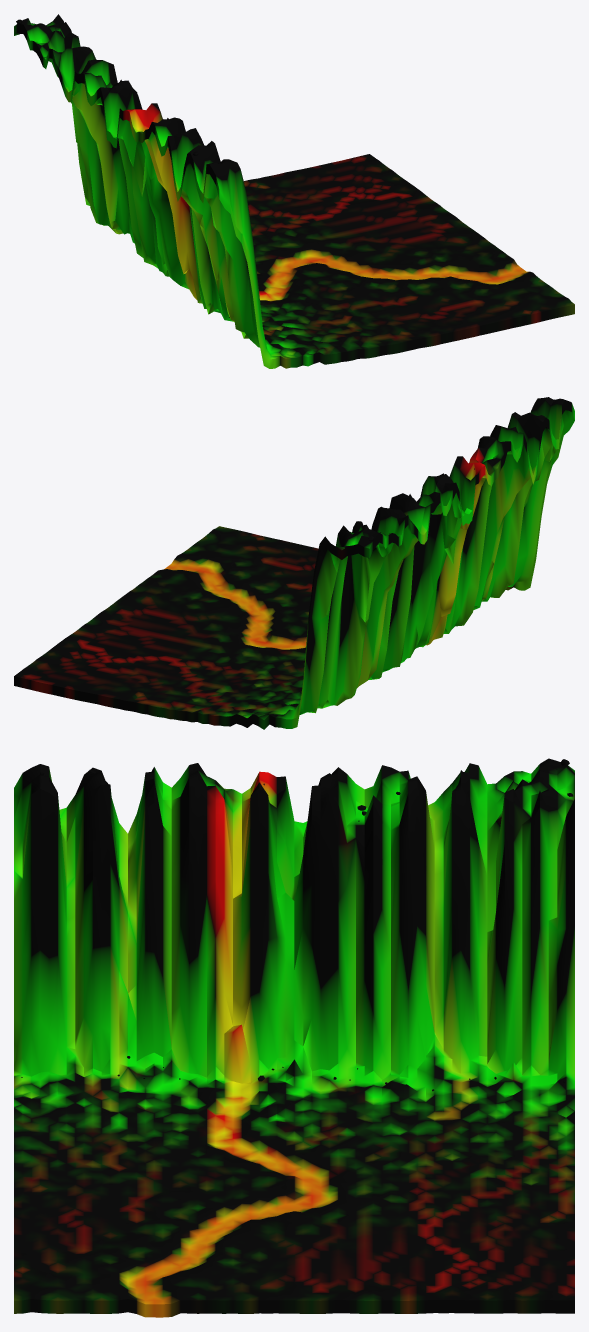
The model's file is Terrain_03_06.fbx.
3 views of the same model, one above another, from view 1: azimuth 30°, elevation 25°; view 2: azimuth 150°, elevation 25°; view 3: azimuth 270°, elevation 25° (orthographic). The views are drawn at different scales.
Visible parts, largest first — view 1: Terrain_03_06_LOD0; view 2: Terrain_03_06_LOD0; view 3: Terrain_03_06_LOD0.
Boxes of the visible parts, x1,y1,x2,y2 form: Terrain_03_06_LOD0: (14,14,574,368); Terrain_03_06_LOD0: (14,397,574,729); Terrain_03_06_LOD0: (14,758,574,1317).
Size of what is drawn, in the model's own units: 385 by 243 by 384.
